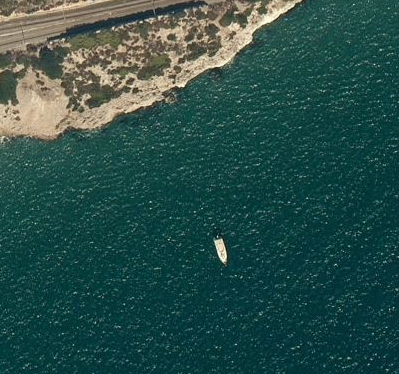ship: (209, 232, 233, 267)
